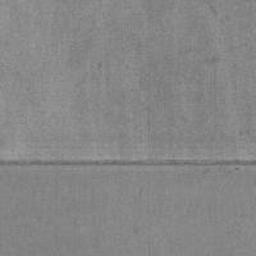Welding line: (0, 157, 256, 168)
